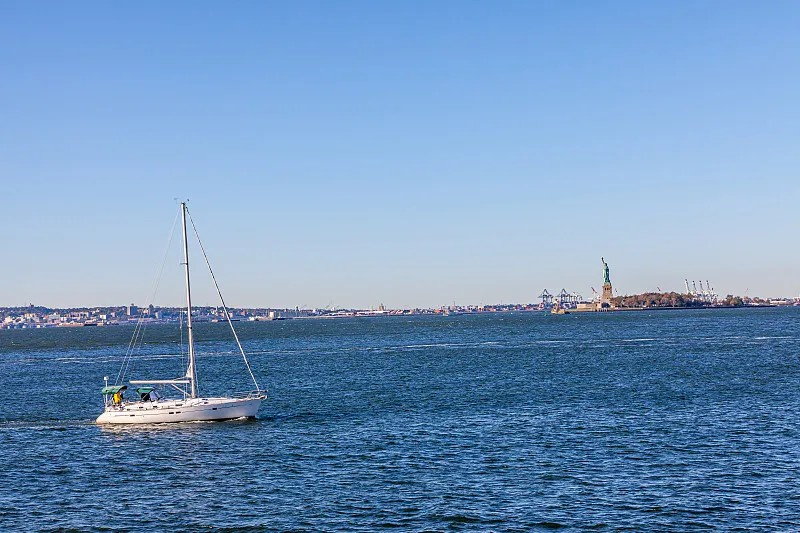SL: (601, 258, 613, 300)
